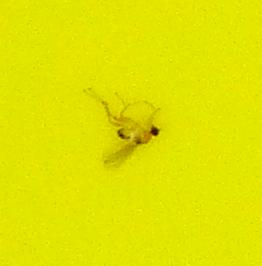Brachycera: (100, 100, 162, 166)
